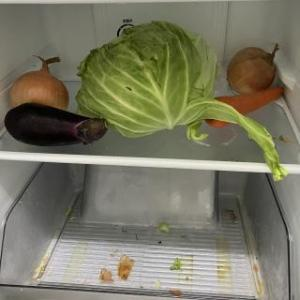cabbage: (76, 20, 222, 148)
carrot: (203, 88, 285, 130)
eggplant: (4, 100, 109, 150)
onion: (8, 56, 70, 112), (225, 44, 279, 96)
